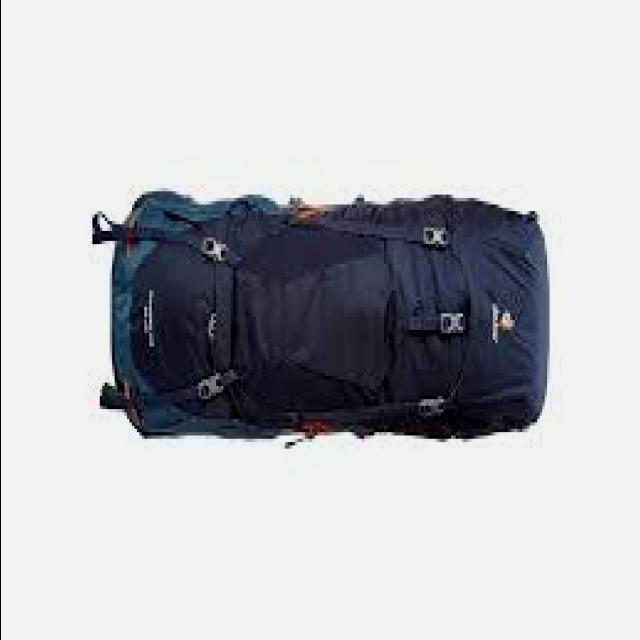backpack: (92, 189, 552, 447)
